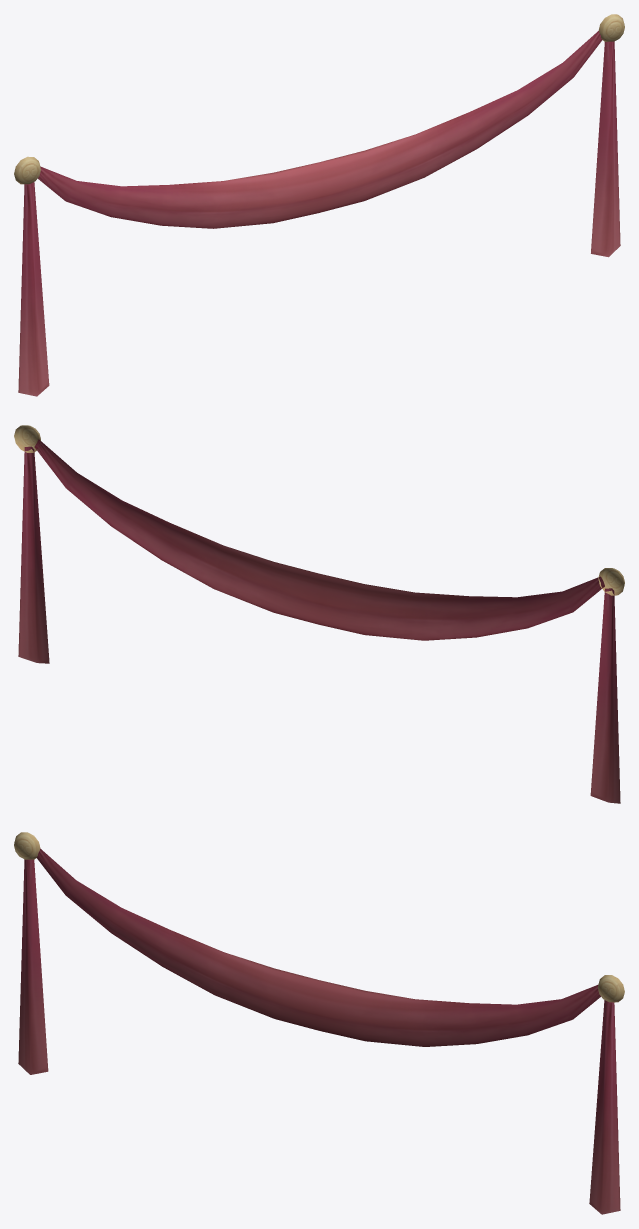
The model's file is Homeworld_Interior_Ly_Walldecoration_Decoration_01_Vo.fbx.
3 renders of one model, top to bottom at view 1: azimuth 30°, elevation 25°; view 2: azimuth 150°, elevation 25°; view 3: azimuth 330°, elevation 25°, orthographic.
Visible parts, largest first — view 1: Homeworld_Interior_Ly_Walldecoration_Decoration_01_Vo; view 2: Homeworld_Interior_Ly_Walldecoration_Decoration_01_Vo; view 3: Homeworld_Interior_Ly_Walldecoration_Decoration_01_Vo.
Part boxes in pixels (x1=…): Homeworld_Interior_Ly_Walldecoration_Decoration_01_Vo: x1=14, y1=14, x2=624, y2=396; Homeworld_Interior_Ly_Walldecoration_Decoration_01_Vo: x1=14, y1=425, x2=624, y2=803; Homeworld_Interior_Ly_Walldecoration_Decoration_01_Vo: x1=14, y1=832, x2=624, y2=1214.
Bounding box in the file's own units: 4.21 × 1.57 × 0.061.
